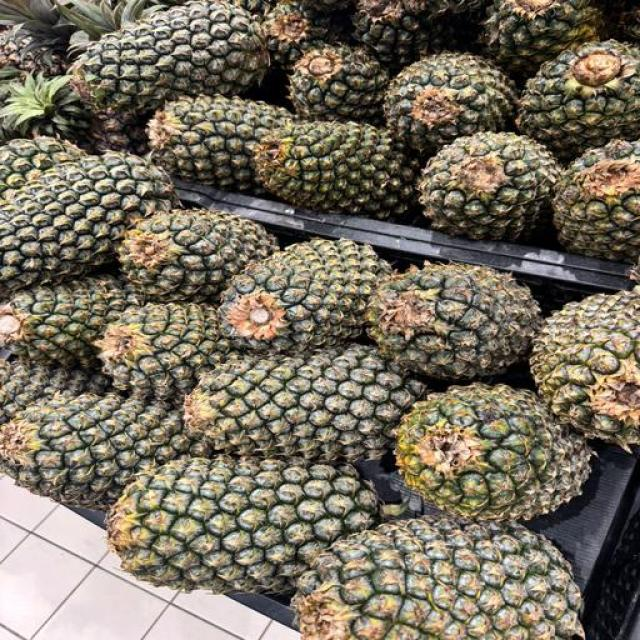organic: (108, 457, 379, 593), (293, 517, 583, 639), (185, 344, 424, 462), (397, 383, 591, 521), (0, 153, 176, 296), (0, 393, 207, 508), (72, 2, 268, 112), (367, 263, 541, 379), (219, 239, 391, 354), (530, 288, 639, 448), (253, 122, 417, 218), (419, 132, 562, 241), (118, 209, 277, 302), (518, 40, 639, 159), (148, 95, 293, 192), (384, 53, 516, 154), (0, 275, 143, 367), (95, 303, 228, 399), (0, 0, 162, 77), (553, 140, 639, 262), (483, 0, 603, 77), (354, 0, 479, 73), (289, 45, 388, 121), (0, 359, 108, 424), (0, 74, 89, 139), (0, 0, 74, 76), (55, 0, 158, 54), (263, 0, 334, 69), (0, 137, 84, 194), (0, 29, 68, 77), (88, 108, 148, 156), (413, 0, 484, 17), (233, 0, 276, 21), (619, 3, 639, 43), (302, 0, 349, 13)
